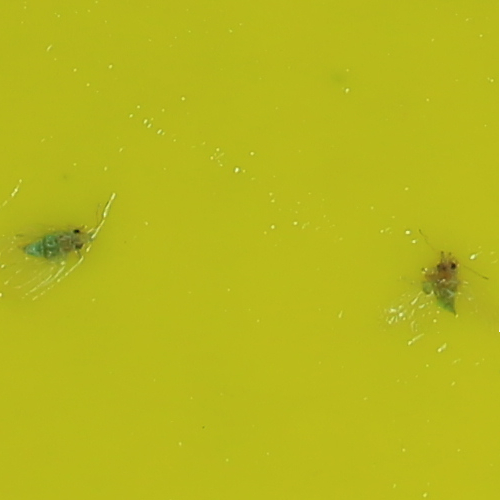Glycaspis: (22, 224, 93, 262), (429, 252, 461, 316)
